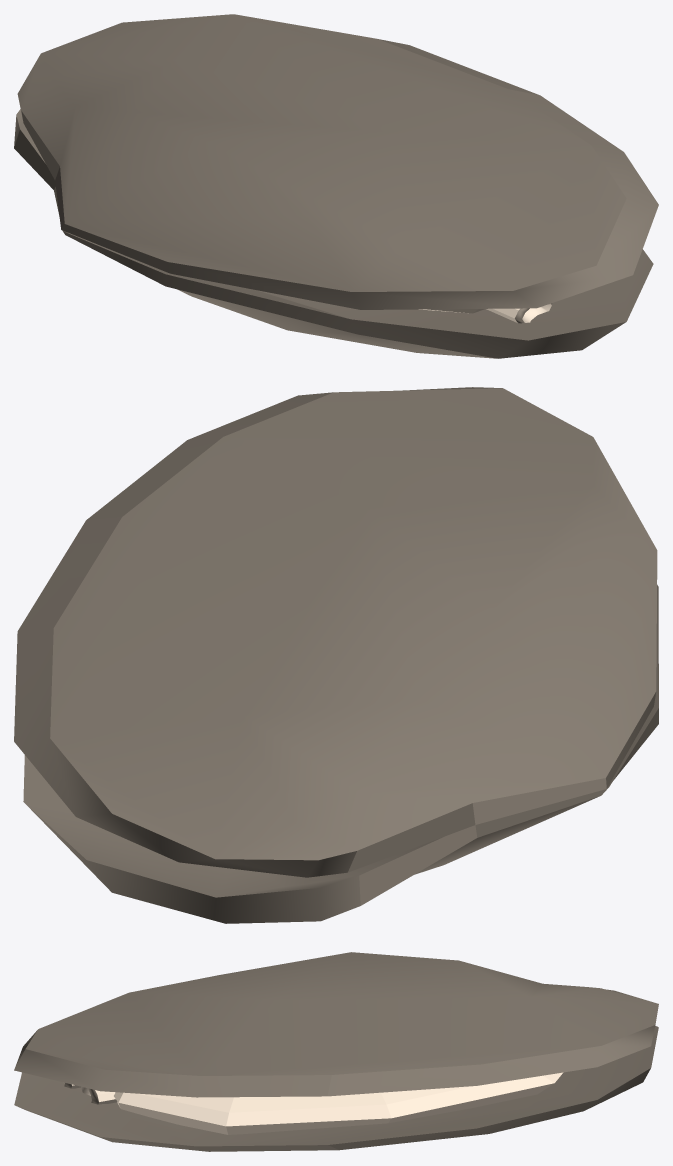
The model's file is Shellfish.fbx.
The picture shows the model from 3 angles, top to bottom: view 1: azimuth 30°, elevation 25°; view 2: azimuth 150°, elevation 25°; view 3: azimuth 270°, elevation 25°; orthographic projection. The views are drawn at different scales.
Visible parts, largest first — view 1: pCube3; view 2: pCube3; view 3: pCube3.
Part boxes in pixels (x1=…): pCube3: x1=14, y1=14, x2=658, y2=358; pCube3: x1=14, y1=387, x2=658, y2=923; pCube3: x1=14, y1=952, x2=658, y2=1151.
Size of the model in its own units: 1.01 by 0.3523 by 1.57.
